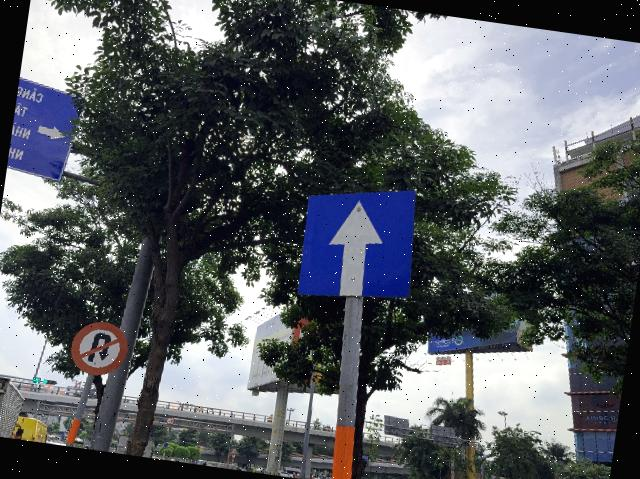cam-quay-dau-xe: (68, 317, 132, 380)
duong-mot-chieu: (296, 176, 424, 311)
